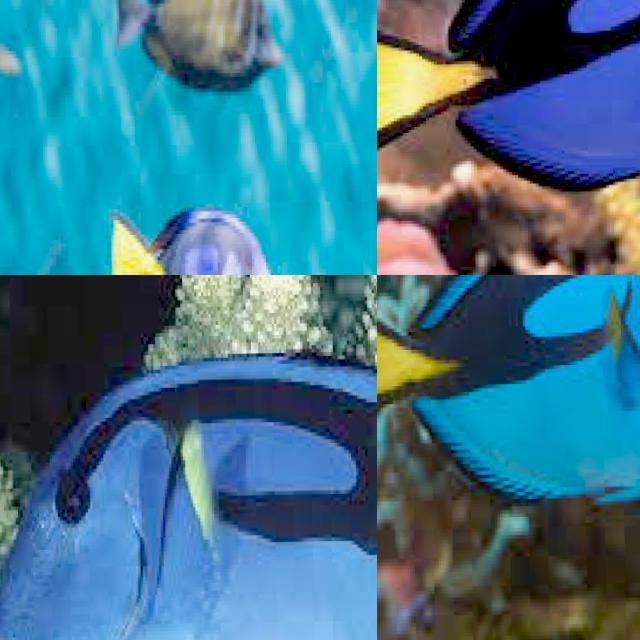BlueTang: (0, 357, 379, 640), (380, 275, 640, 503), (376, 0, 640, 189), (91, 201, 304, 275)
ButterflyFish: (117, 0, 285, 90)
